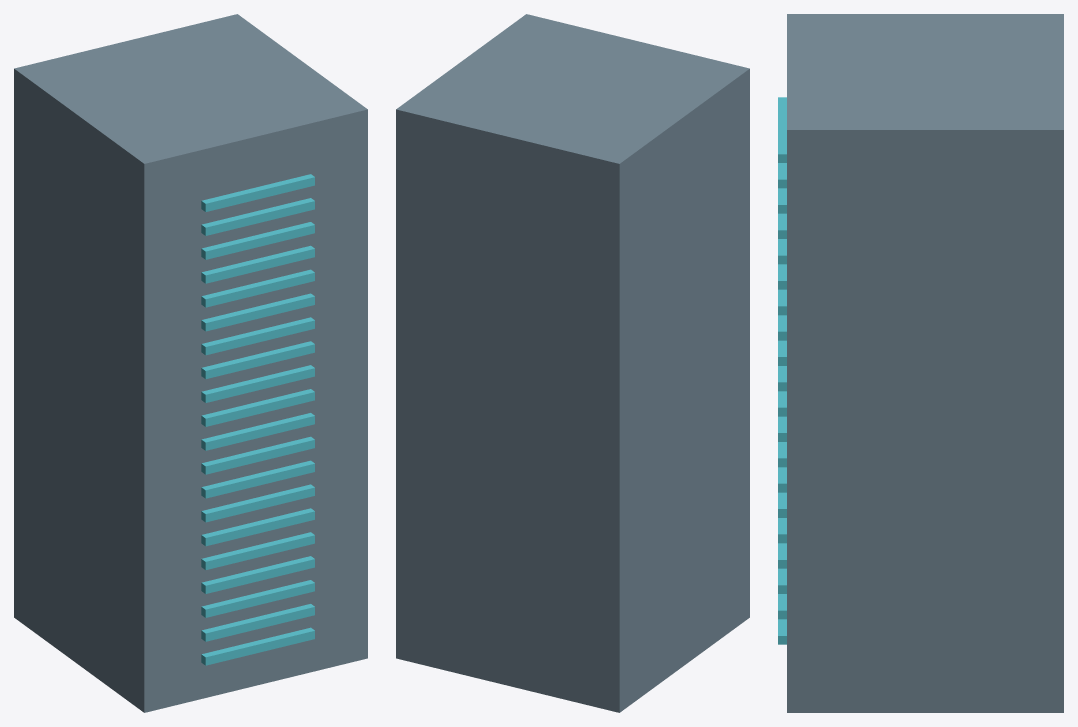
Rendered from 17_L79_GantryZPrecisionElevator.glb.
The picture shows the model from 3 angles, left to right: view 1: azimuth 30°, elevation 25°; view 2: azimuth 150°, elevation 25°; view 3: azimuth 270°, elevation 25°; orthographic projection. The views are drawn at different scales.
Parts seen in each view (by area): view 1: GantryZPrecisionElevator_Node_0000, GantryZPrecisionElevator_Node_0006, GantryZPrecisionElevator_Node_0009, GantryZPrecisionElevator_Node_0012, GantryZPrecisionElevator_Node_0019, GantryZPrecisionElevator_Node_0021, GantryZPrecisionElevator_Node_0023, GantryZPrecisionElevator_Node_0005, GantryZPrecisionElevator_Node_0008, GantryZPrecisionElevator_Node_0010, GantryZPrecisionElevator_Node_0013, GantryZPrecisionElevator_Node_0015 (+9 smaller); view 2: GantryZPrecisionElevator_Node_0000; view 3: GantryZPrecisionElevator_Node_0000, GantryZPrecisionElevator_Node_0024.
Part boxes in pixels (x1=…): GantryZPrecisionElevator_Node_0000: x1=14, y1=14, x2=367, y2=712; GantryZPrecisionElevator_Node_0006: x1=201, y1=604, x2=314, y2=641; GantryZPrecisionElevator_Node_0009: x1=201, y1=532, x2=314, y2=570; GantryZPrecisionElevator_Node_0012: x1=201, y1=460, x2=314, y2=498; GantryZPrecisionElevator_Node_0019: x1=201, y1=293, x2=314, y2=331; GantryZPrecisionElevator_Node_0021: x1=201, y1=245, x2=314, y2=283; GantryZPrecisionElevator_Node_0023: x1=201, y1=198, x2=314, y2=235; GantryZPrecisionElevator_Node_0005: x1=201, y1=627, x2=314, y2=665; GantryZPrecisionElevator_Node_0008: x1=201, y1=556, x2=314, y2=593; GantryZPrecisionElevator_Node_0010: x1=201, y1=508, x2=314, y2=546; GantryZPrecisionElevator_Node_0013: x1=201, y1=436, x2=314, y2=474; GantryZPrecisionElevator_Node_0015: x1=201, y1=389, x2=314, y2=426; GantryZPrecisionElevator_Node_0000: x1=396, y1=14, x2=749, y2=712; GantryZPrecisionElevator_Node_0000: x1=787, y1=14, x2=1063, y2=712; GantryZPrecisionElevator_Node_0024: x1=778, y1=97, x2=786, y2=162.
Bounding box in the file's own units: 0.98 × 2.32 × 1.02.
